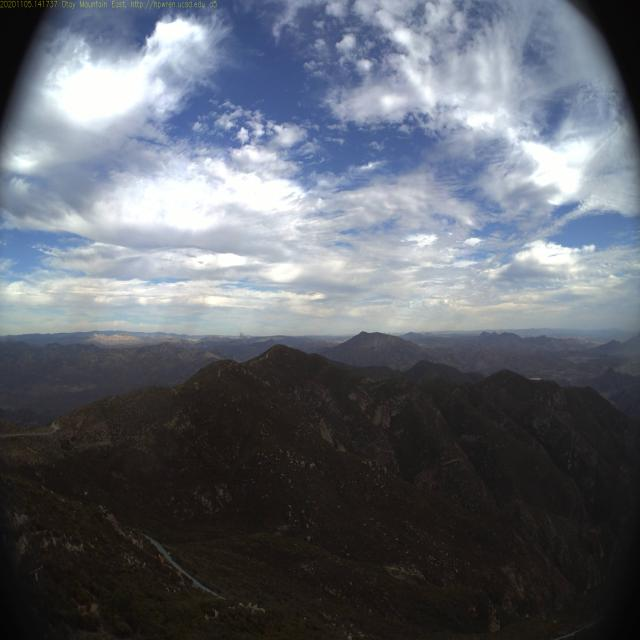smoke: (235, 329, 247, 344)
